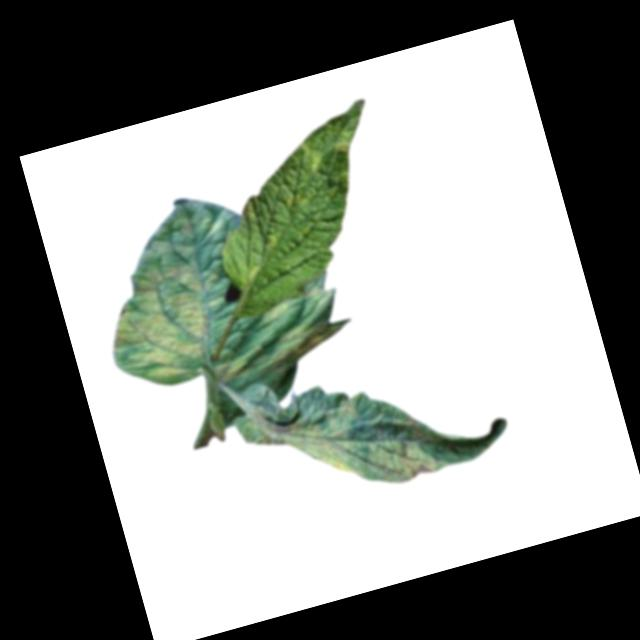Leaf_Mold: (240, 364, 449, 519), (78, 205, 223, 399), (248, 282, 353, 370), (291, 121, 360, 175)
